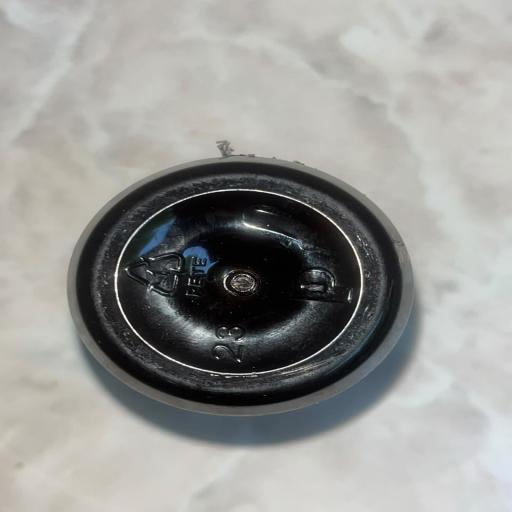HDPE: (81, 75, 457, 471)
